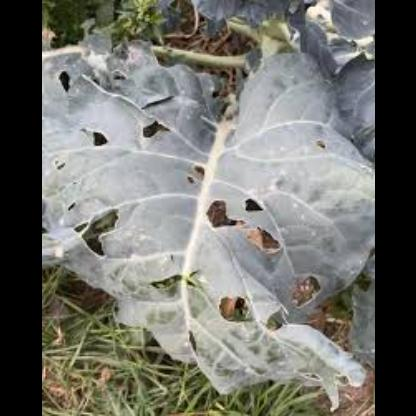agujero: (80, 213, 121, 261), (212, 292, 252, 324), (205, 198, 239, 226), (150, 266, 178, 300), (291, 270, 317, 306), (258, 222, 282, 256), (144, 91, 174, 115), (58, 68, 78, 100), (80, 127, 108, 148), (262, 308, 286, 330), (187, 262, 203, 292), (137, 121, 165, 137), (243, 197, 267, 215), (187, 159, 208, 175), (190, 333, 200, 357), (71, 220, 85, 236), (56, 160, 70, 172), (313, 141, 331, 150), (184, 176, 196, 188), (66, 200, 78, 210)
